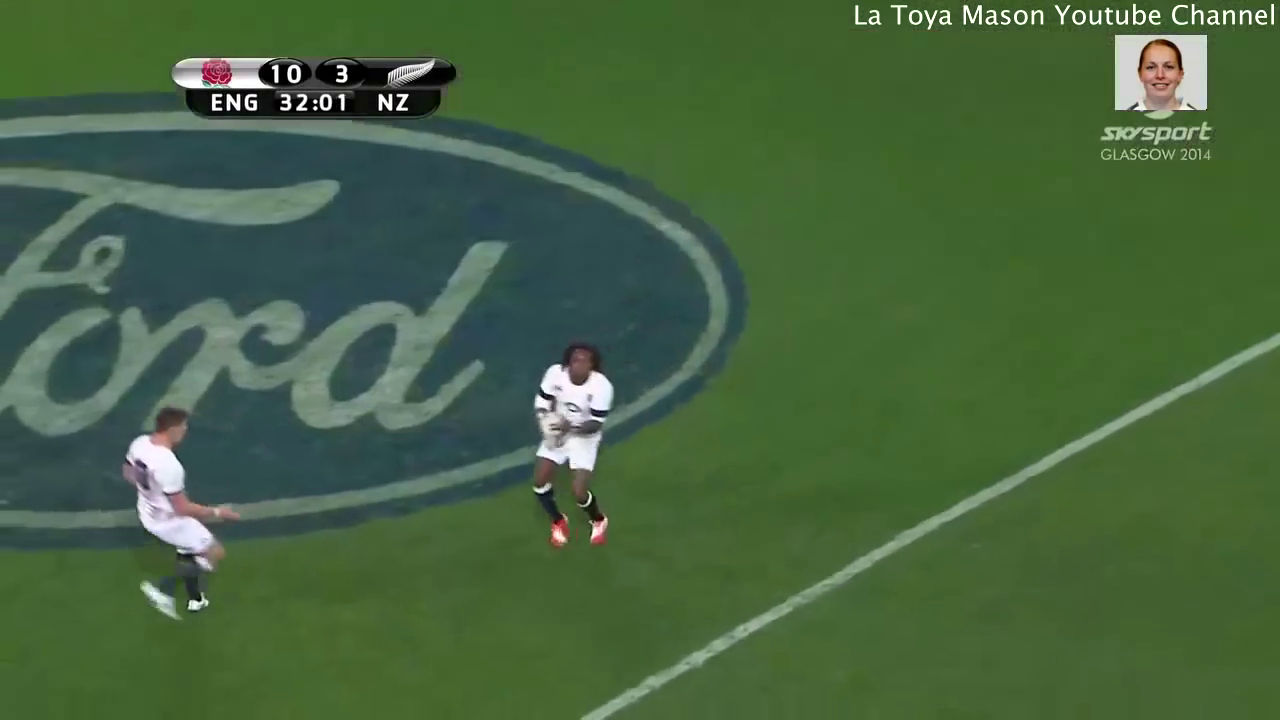ball: (529, 404, 572, 456)
player: (112, 404, 230, 625), (529, 339, 626, 559)
